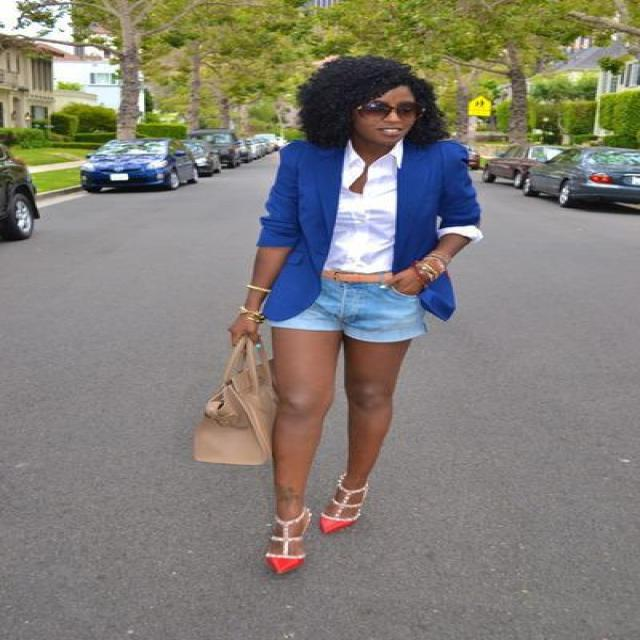bag: (194, 335, 272, 464)
jacket: (258, 135, 482, 320)
shirt: (326, 141, 402, 272)
shoe: (266, 499, 360, 572)
shorts: (271, 280, 438, 342)
